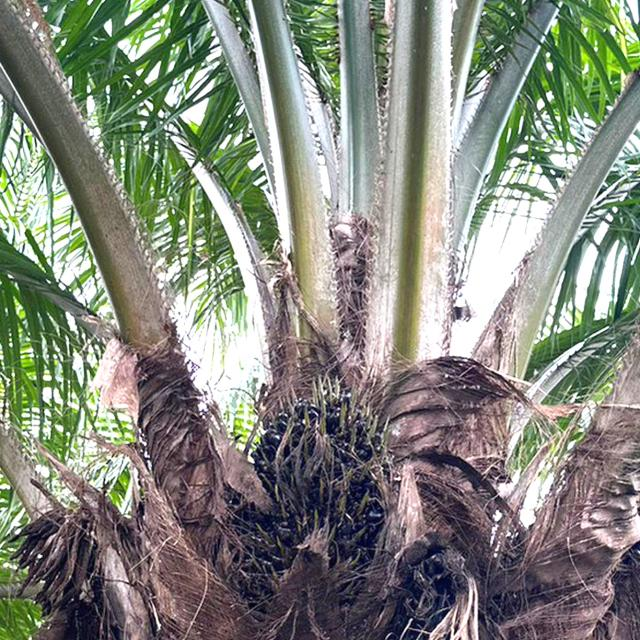unripe: (210, 366, 479, 640)
